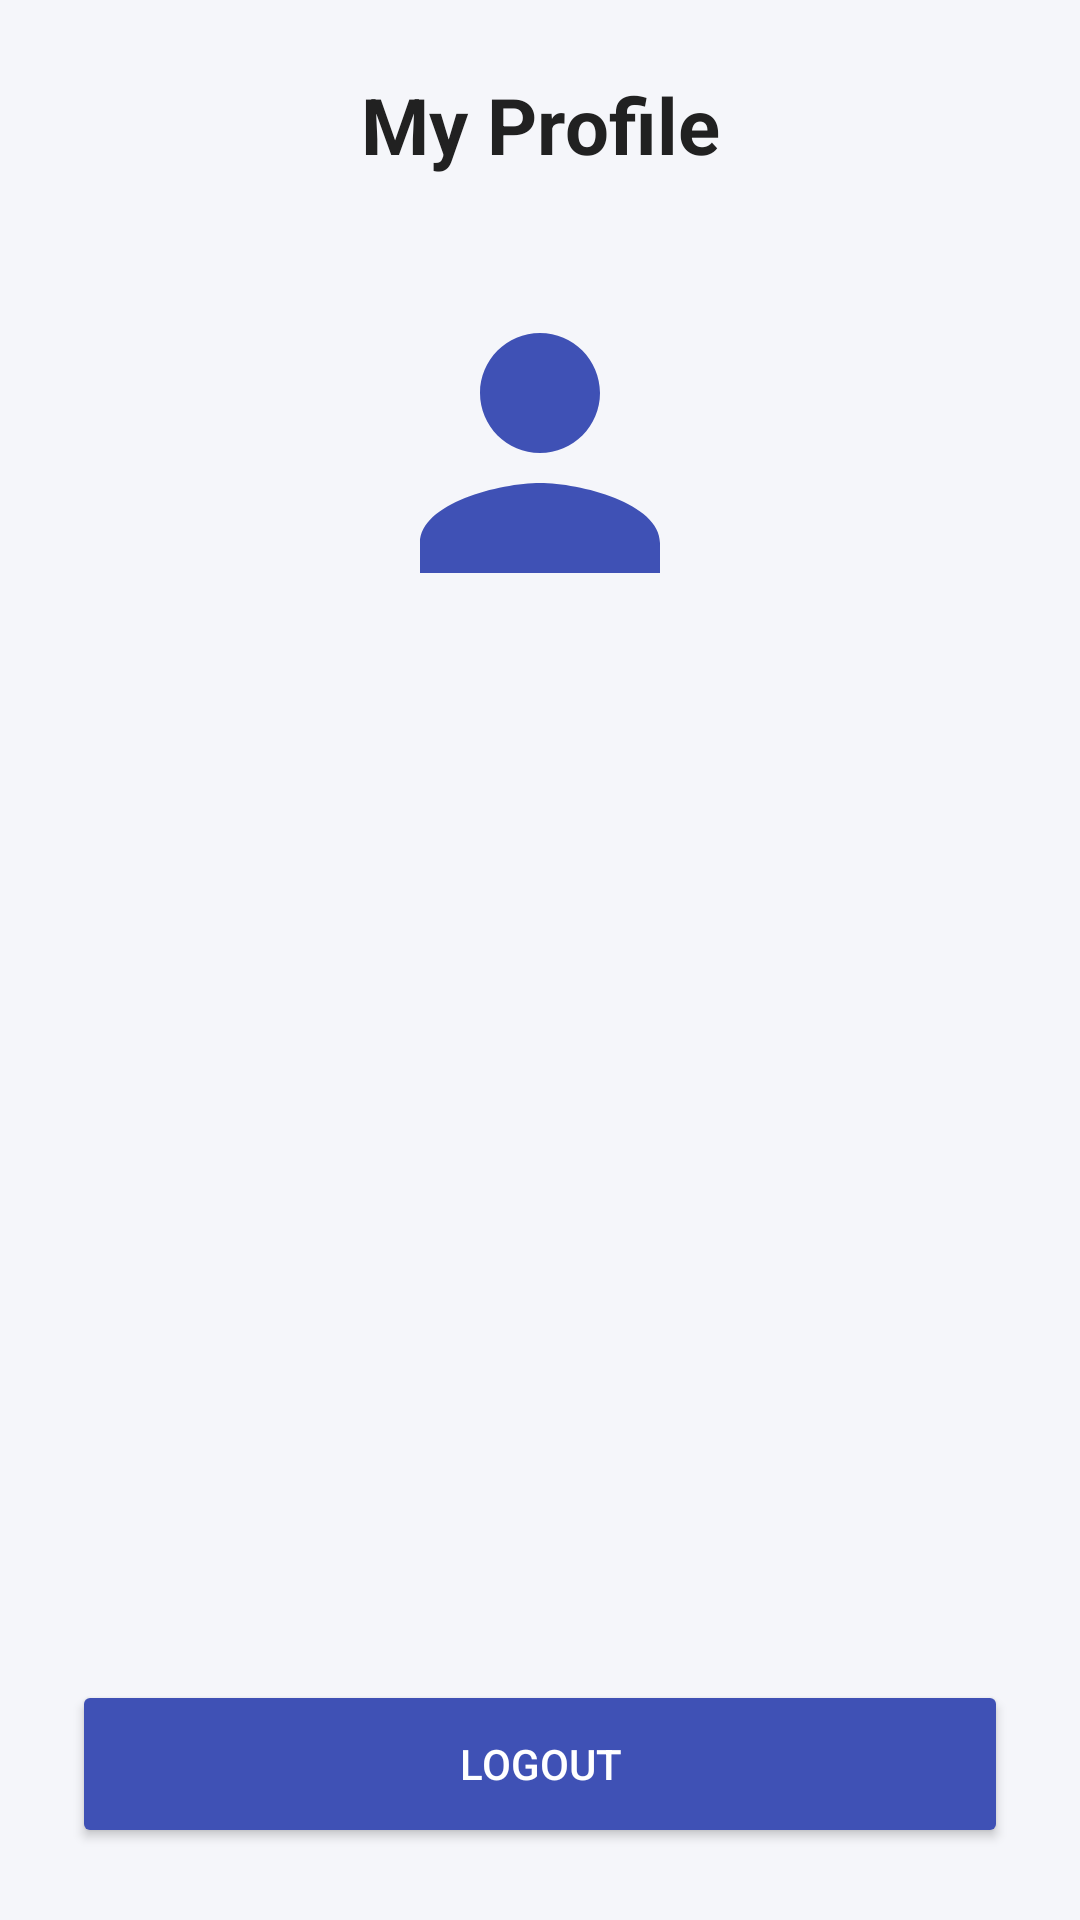

Where icons sit on this 1080 x 1920 app screen, as (x1, y1, x2, y2):
User avatar: (420, 333, 660, 573)
